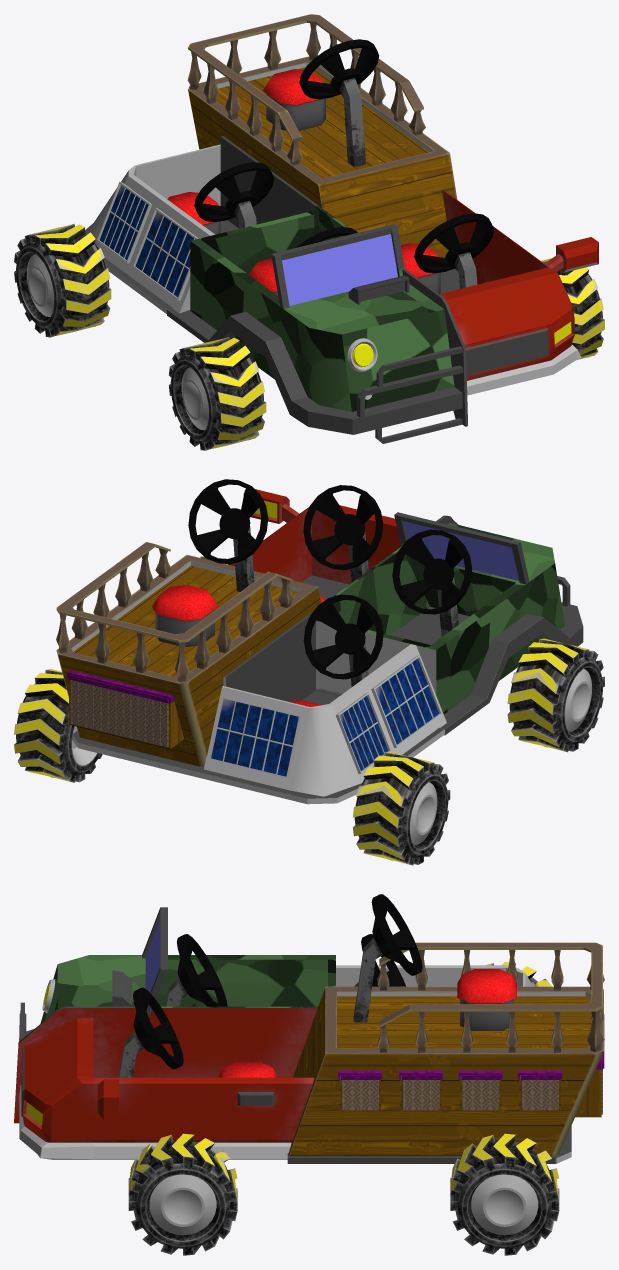
File: Car.fbx
3 views of the same model, one above another, from view 1: azimuth 30°, elevation 25°; view 2: azimuth 150°, elevation 25°; view 3: azimuth 270°, elevation 25° (orthographic). The views are drawn at different scales.
Parts seen in each view (by area): view 1: Core, RB_Wheel, RF_Wheel, SteeringWheel (×3), Seat (×4), LF_Wheel, steerBace (×2); view 2: Core, SteeringWheel (×4), RF_Wheel, RB_Wheel, LB_Wheel, Seat, steerBace; view 3: Core, LF_Wheel, LB_Wheel, SteeringWheel (×4), Seat (×2), steerBace (×2).
Boxes of the visible parts, <box> form: Core: <box>85,14,598,443</box>; RB_Wheel: <box>14,223,111,337</box>; RF_Wheel: <box>168,337,266,450</box>; SteeringWheel (×3): <box>194,39,493,273</box>; Seat (×4): <box>167,69,440,295</box>; LF_Wheel: <box>541,258,604,359</box>; steerBace (×2): <box>339,78,477,288</box>; Core: <box>56,489,583,804</box>; SteeringWheel (×4): <box>188,479,472,679</box>; RF_Wheel: <box>507,638,604,752</box>; RB_Wheel: <box>352,751,450,865</box>; LB_Wheel: <box>14,669,102,782</box>; Seat: <box>152,585,218,647</box>; steerBace: <box>233,526,254,591</box>; Core: <box>14,907,604,1163</box>; LF_Wheel: <box>128,1133,237,1255</box>; LB_Wheel: <box>450,1133,559,1255</box>; SteeringWheel (×4): <box>133,894,422,1069</box>; Seat (×2): <box>218,969,516,1077</box>; steerBace (×2): <box>118,937,382,1077</box>.
Size of the model in its own units: 474 by 321 by 597.
